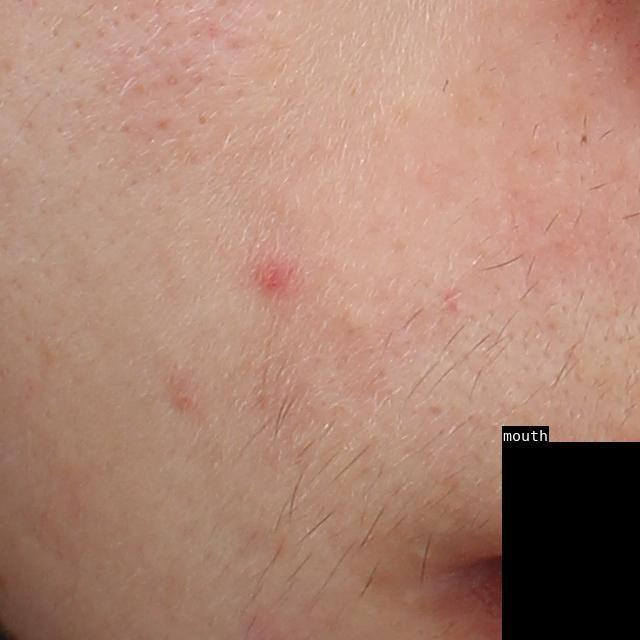atrophic_scar: (424, 401, 450, 420)
papule: (260, 263, 289, 292)
